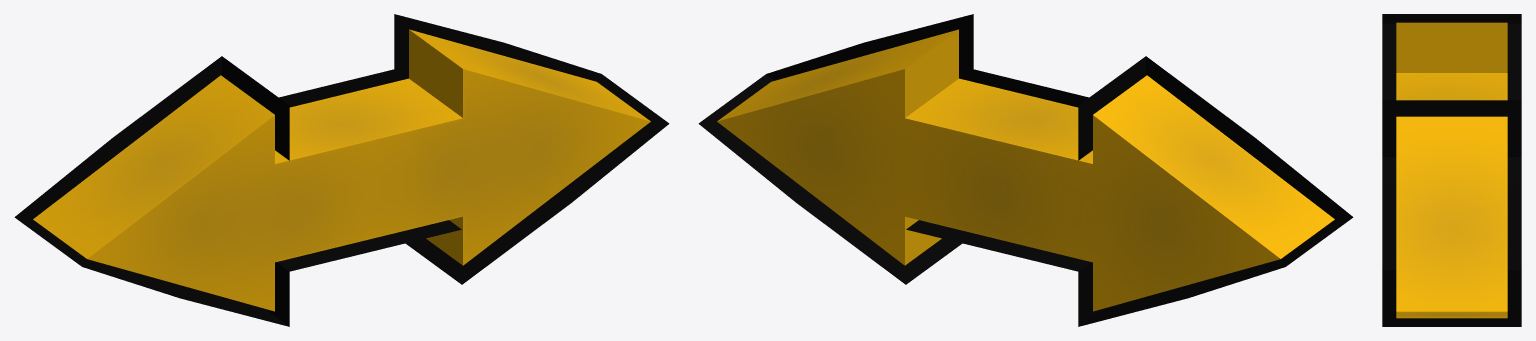
Rendered from arrowTip_LR.fbx.
3 renders of one model, left to right at view 1: azimuth 30°, elevation 25°; view 2: azimuth 150°, elevation 25°; view 3: azimuth 270°, elevation 25°, orthographic. The views are drawn at different scales.
Visible parts, largest first — view 1: cuboid, cuboid_1; view 2: cuboid, cuboid_1; view 3: cuboid, cuboid_1.
Boxes of the visible parts, x1,y1,x2,y2 form: cuboid: (33, 29, 650, 311); cuboid_1: (14, 14, 669, 326); cuboid: (717, 29, 1334, 311); cuboid_1: (698, 14, 1353, 326); cuboid: (1396, 22, 1507, 318); cuboid_1: (1382, 14, 1521, 326).
Size of the model in its own units: 156 by 56.25 by 31.25.
Materials: 2 (2 with a texture image).
